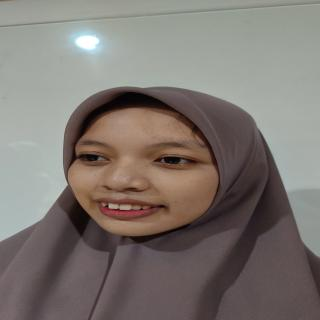Senang: (70, 101, 229, 243)
